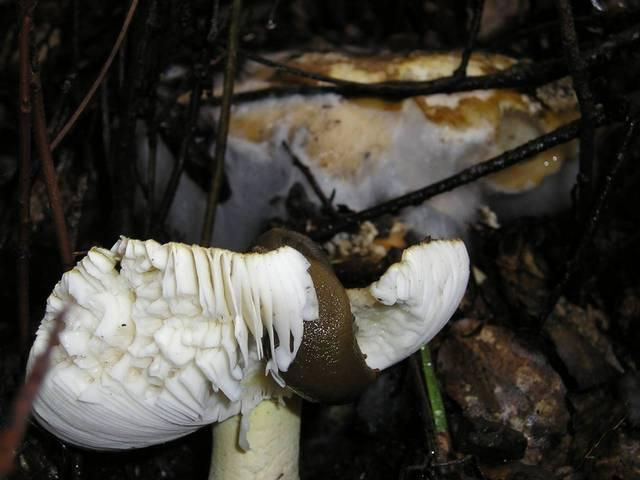Edible Mushroom: (23, 226, 470, 479)
